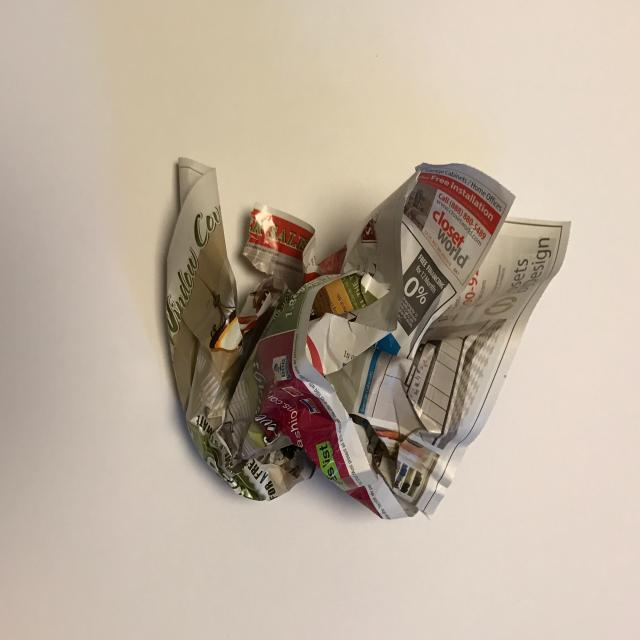Paper: (138, 108, 578, 527)
